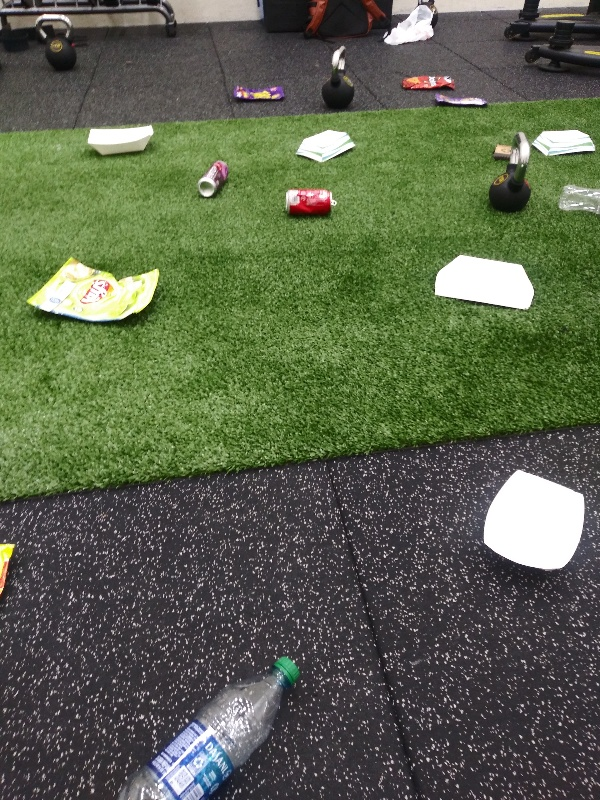bag: (21, 251, 162, 327), (229, 76, 287, 104), (396, 72, 459, 94), (432, 91, 491, 111), (1, 535, 17, 598)
bottle: (113, 650, 309, 800), (557, 182, 600, 214)
can: (195, 157, 234, 203), (280, 187, 339, 216)
plate: (479, 467, 587, 578), (429, 251, 539, 314), (292, 126, 365, 166), (81, 119, 157, 157), (531, 126, 597, 158)
